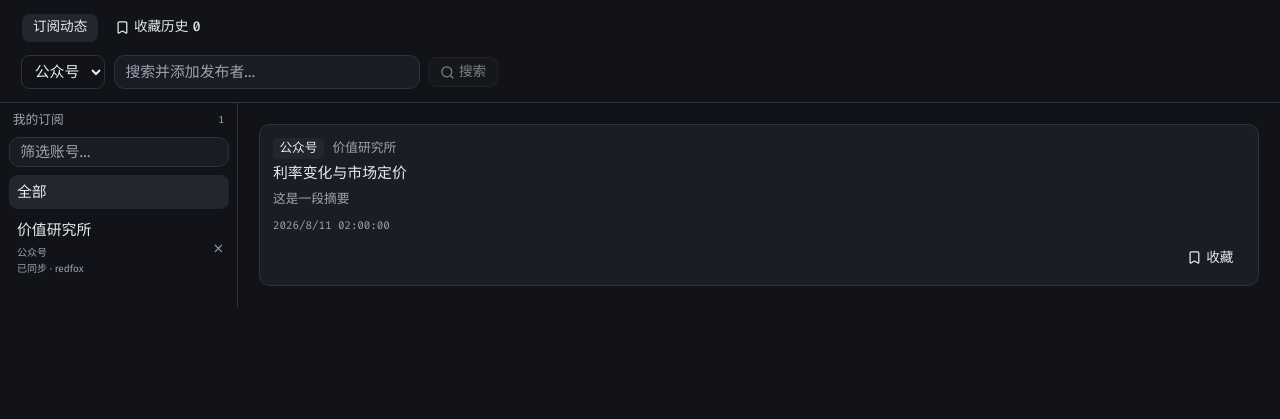
Test: SocialPanel 统一订阅动态 › 刷新与收藏失败会显示给用户
Click the button "价值研究所 公众号 已同步 · redfox" at (108, 248), box [8, 214, 207, 283]
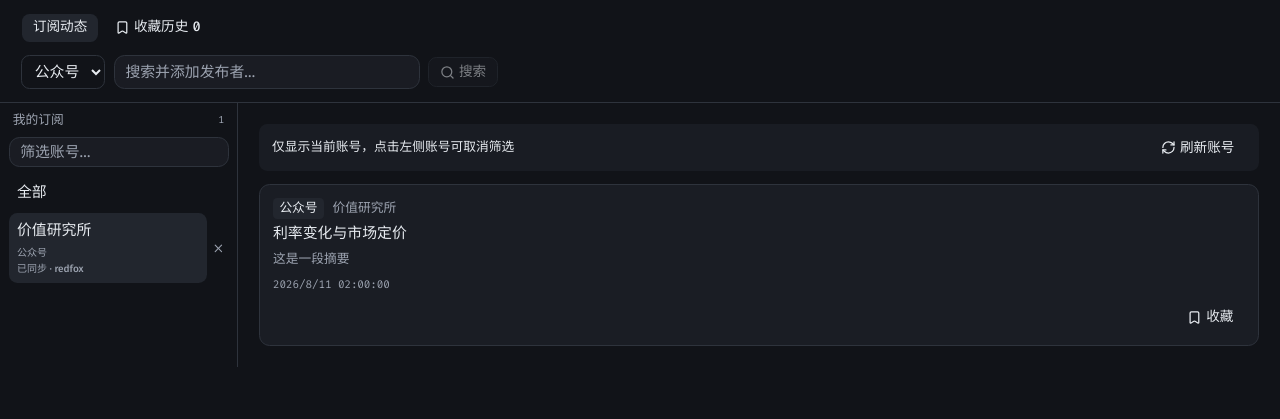
Click the button "刷新账号" at (1198, 148), box [1149, 133, 1246, 163]
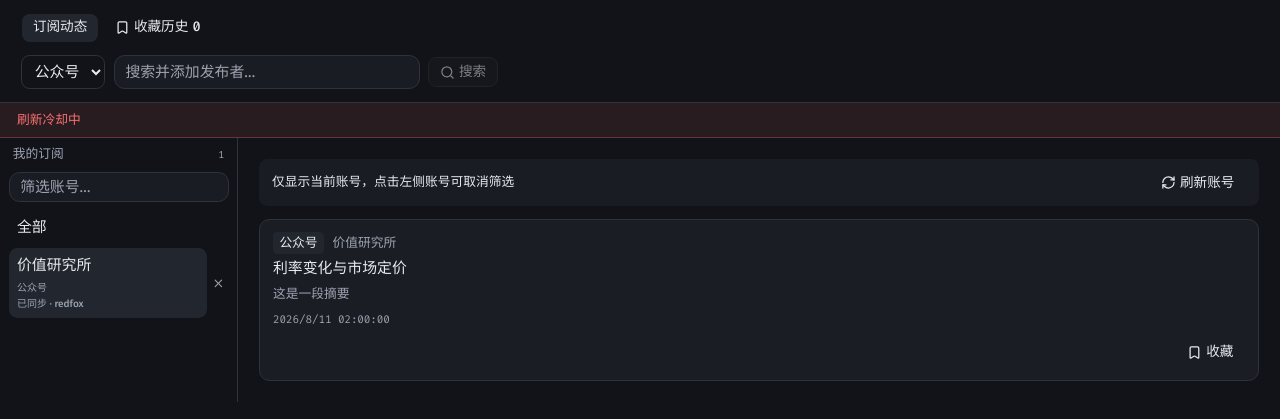
Expected: the text "刷新冷却中" is shown, [0, 103, 1279, 138]
Click the button "收藏" at (1210, 352), box [1175, 337, 1245, 367]
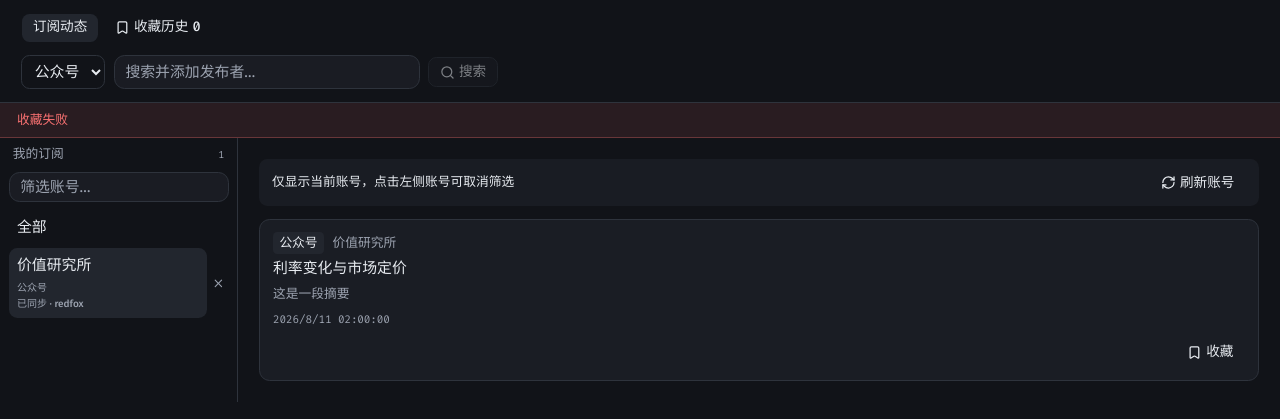
Expected: the text "收藏失败" is shown, [0, 103, 1279, 138]
